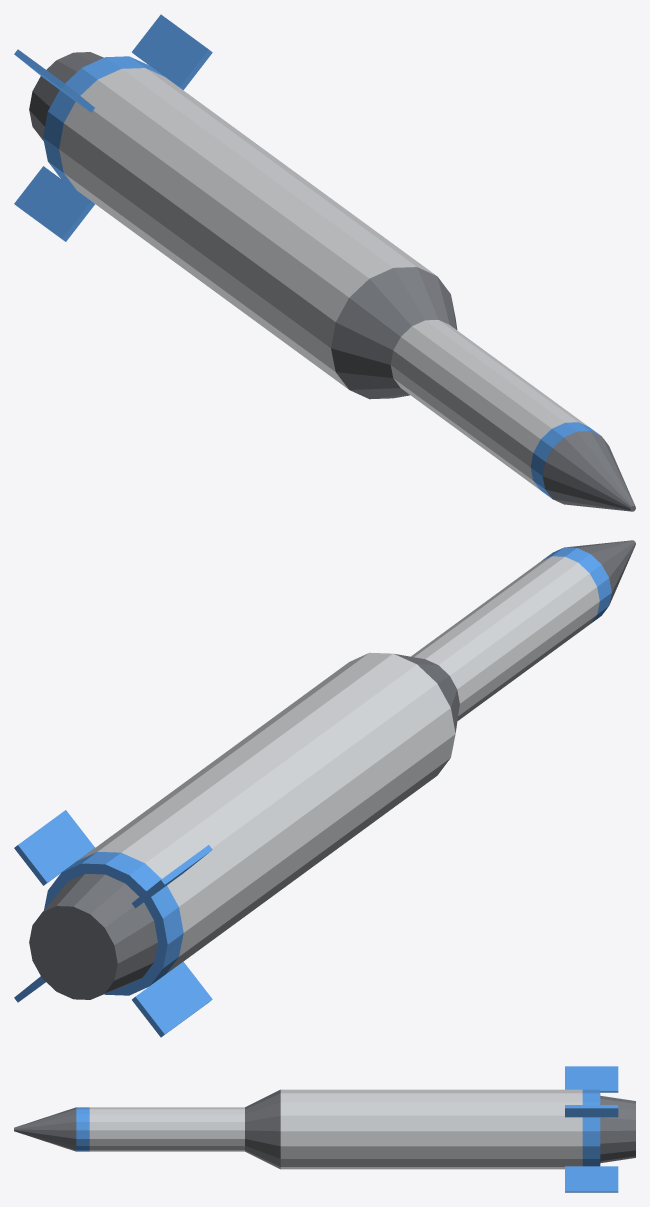
File: Interceptor_LongRange_01.fbx
The picture shows the model from 3 angles, top to bottom: view 1: azimuth 30°, elevation 25°; view 2: azimuth 150°, elevation 25°; view 3: azimuth 270°, elevation 25°; orthographic projection. The views are drawn at different scales.
Visible parts, largest first — view 1: Interceptor_LongRange_01_Structure, Interceptor_LongRange_01_Trim, Interceptor_LongRange_01_Accent; view 2: Interceptor_LongRange_01_Structure, Interceptor_LongRange_01_Trim, Interceptor_LongRange_01_Accent; view 3: Interceptor_LongRange_01_Structure, Interceptor_LongRange_01_Trim, Interceptor_LongRange_01_Accent.
Boxes of the visible parts, <box> form: Interceptor_LongRange_01_Structure: <box>59,68,588,489</box>; Interceptor_LongRange_01_Trim: <box>29,52,635,511</box>; Interceptor_LongRange_01_Accent: <box>14,14,600,498</box>; Interceptor_LongRange_01_Structure: <box>78,556,599,973</box>; Interceptor_LongRange_01_Trim: <box>29,540,635,999</box>; Interceptor_LongRange_01_Accent: <box>14,547,611,1037</box>; Interceptor_LongRange_01_Structure: <box>89,1089,582,1169</box>; Interceptor_LongRange_01_Trim: <box>14,1089,635,1169</box>; Interceptor_LongRange_01_Accent: <box>76,1066,618,1192</box>.
Size of the model in its own units: 1.09 by 1.09 by 7.
